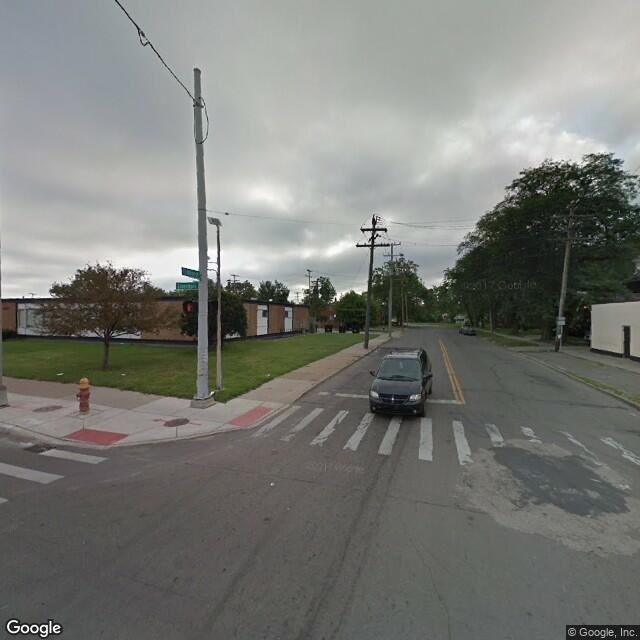litter: (120, 369, 128, 377), (264, 371, 272, 377), (269, 480, 278, 485), (59, 371, 61, 377)
